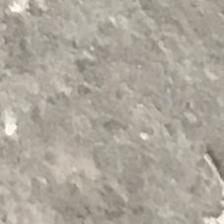Non_Crack: (27, 25, 172, 215)
